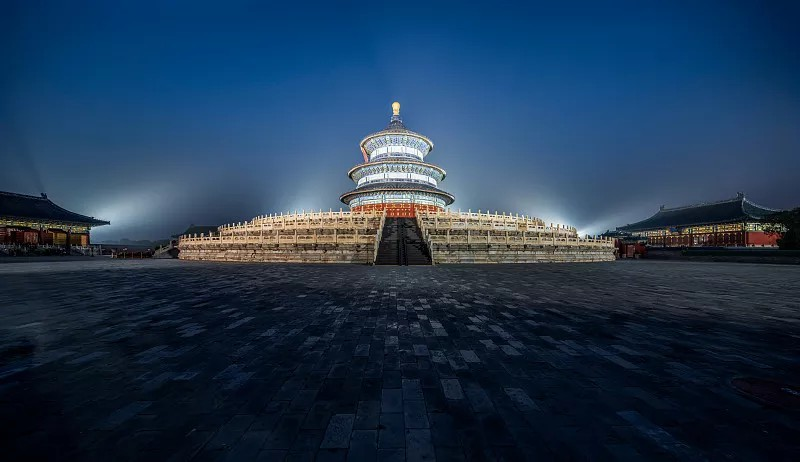Heaven: (339, 101, 454, 218)
